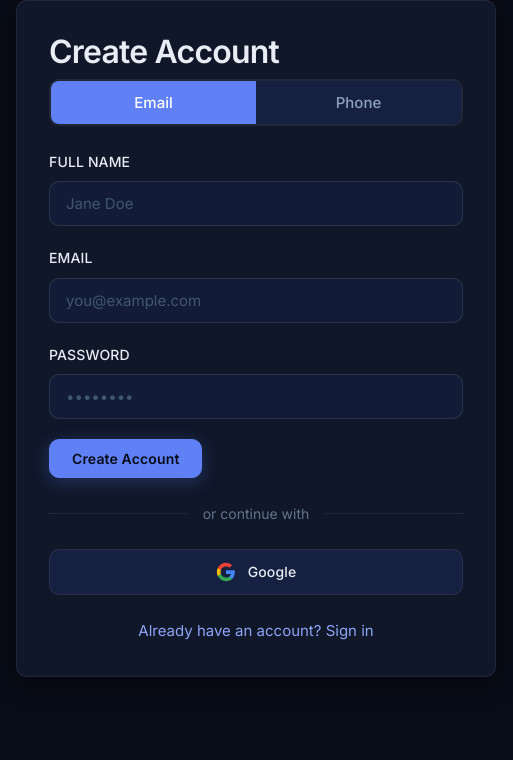
Test: Signup Mode › form submission › shows error on failed signup
The image size is (513, 760).
Type "alice@example.com" into the field labelled "Email" at (256, 300), box [49, 278, 463, 323]
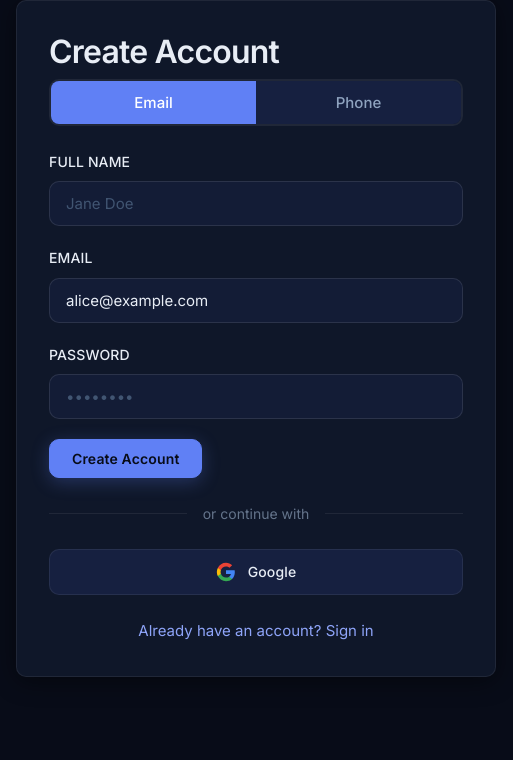
Type "password1" into the password field labelled "Password" at (256, 396), box [49, 374, 463, 419]
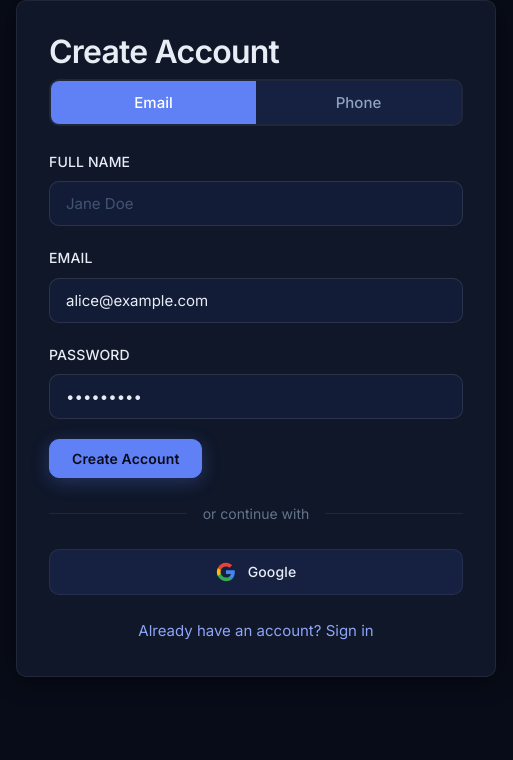
Click the button "Create Account" at (126, 458), box [49, 439, 202, 478]
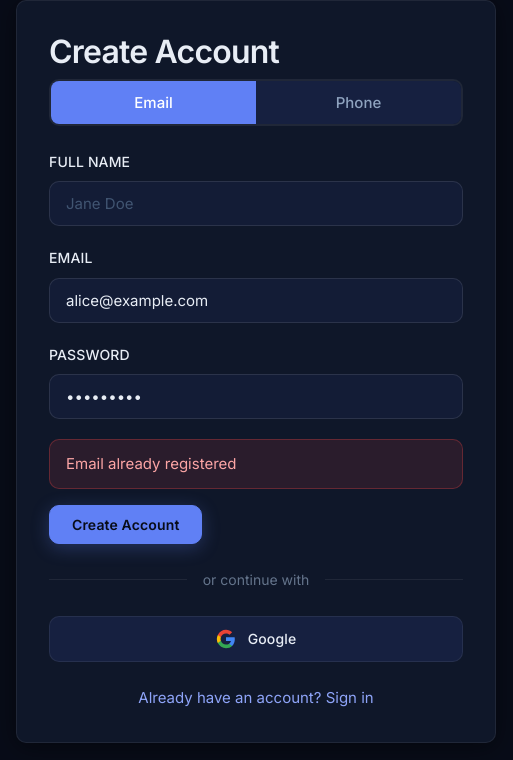
Result: the message reads "Email already registered" at [66, 454, 236, 473]
